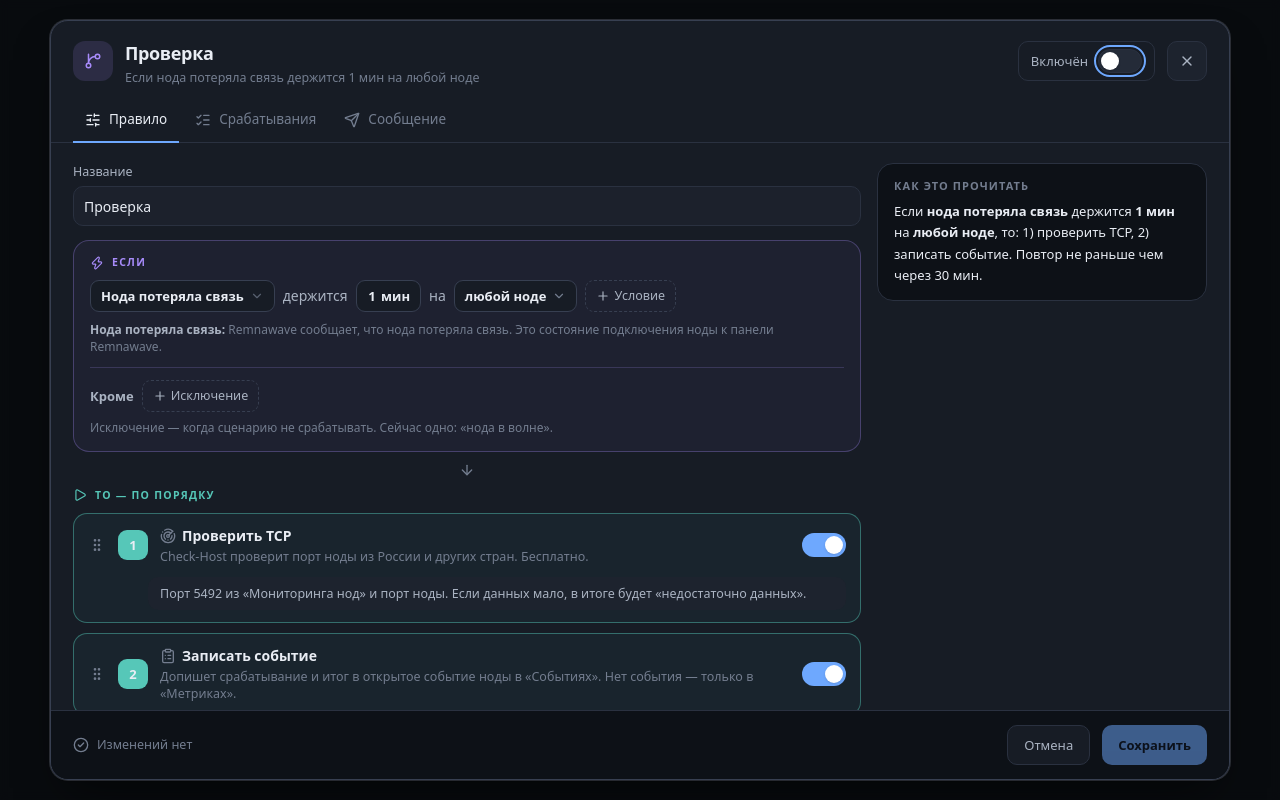
Test case: Редактор сценария «Если → то» › исключение «нода в волне»: добавляется и убирается, объяснено, видно в пересказе и в изменениях
Expected: the text "Исключение — когда сценарию не срабатывать. Сейчас одно: «нода в волне»." is shown, [90,419,553,436]
Click the button "Исключение". click: (200, 396)
box: [142,380,259,412]
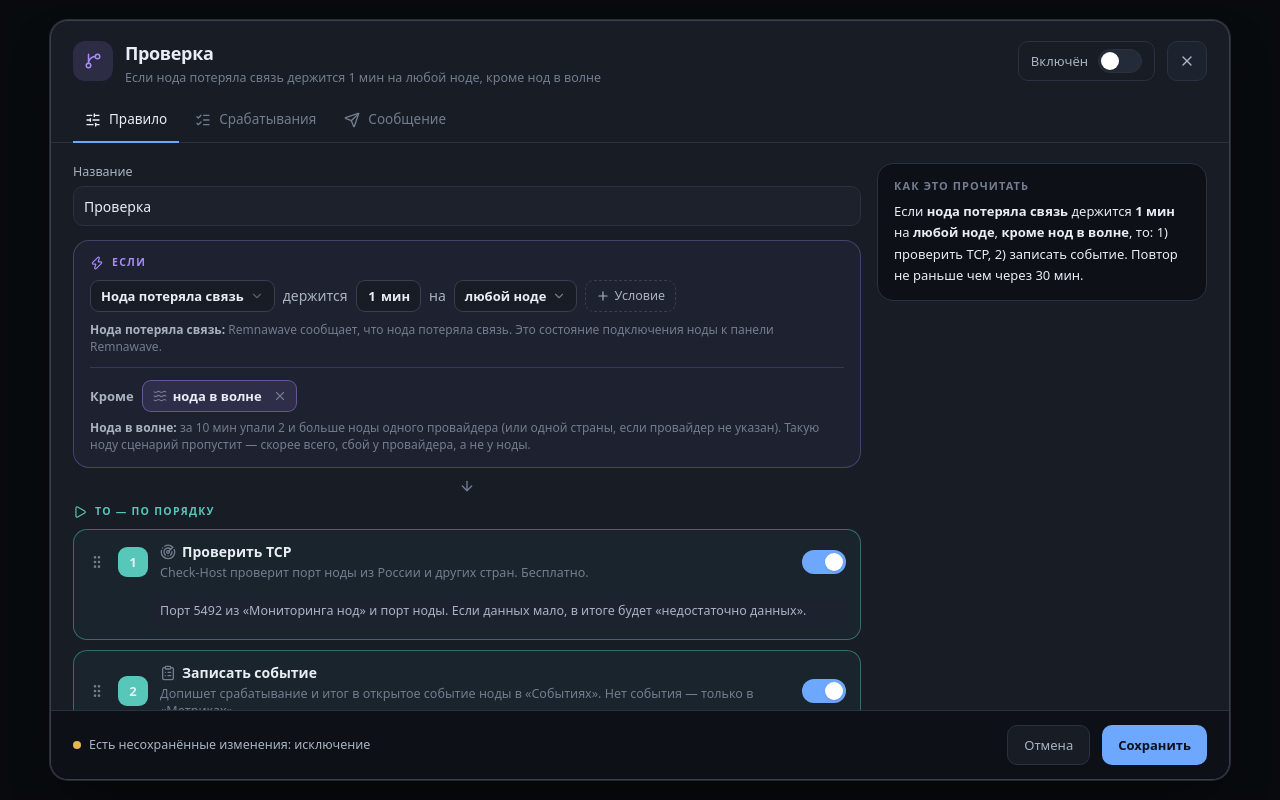
Expected: the text "Такую ноду сценарий пропустит — скорее всего, сбой у провайдера" is shown, [90,419,819,453]
Expected: the text "Повтор не раньше чем через" shows "кроме нод в волне", [1002,223,1129,241]
Expected: the text "Есть несохранённые изменения: исключение" is shown, [89,736,370,754]
Click the button "Сохранить". click: (1155, 745)
box: [1102,725,1207,765]
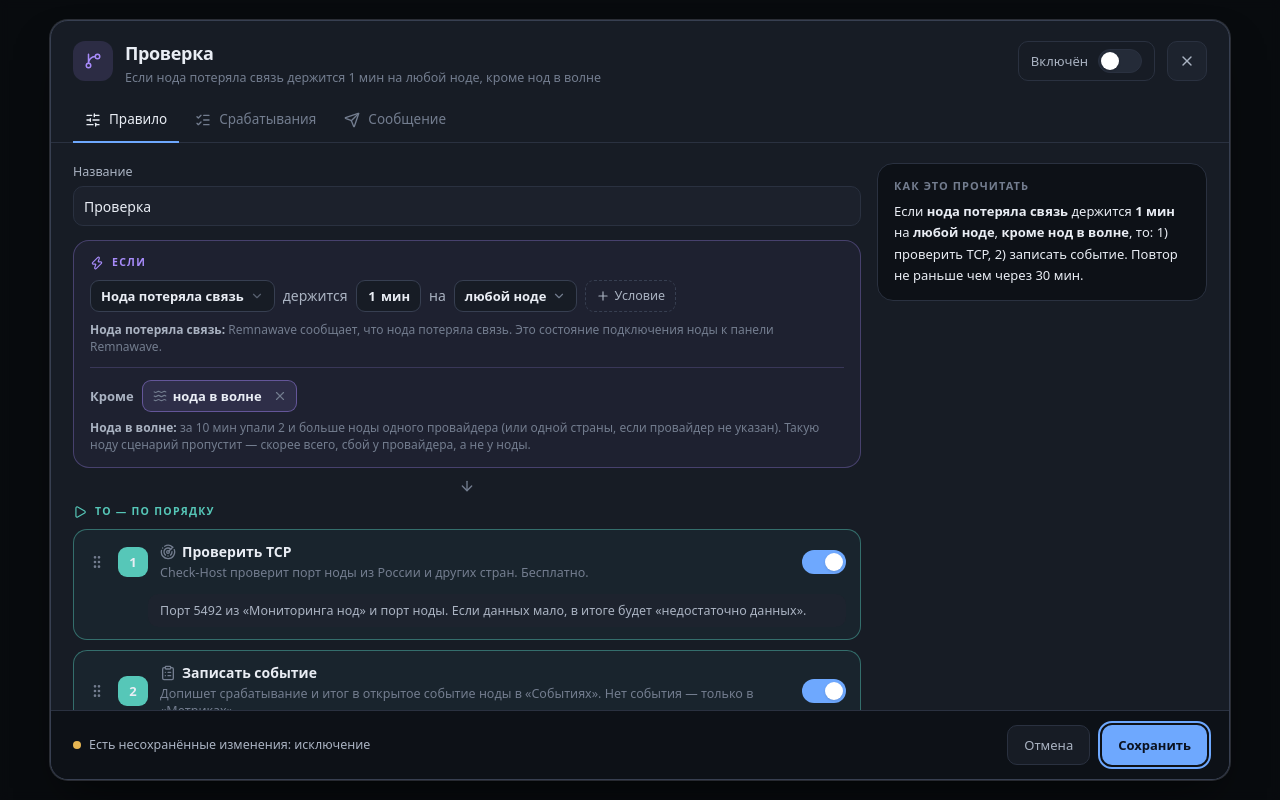
Click the button named "Убрать исключение «нода в волне»". click: (280, 396)
box: [268,384,292,408]
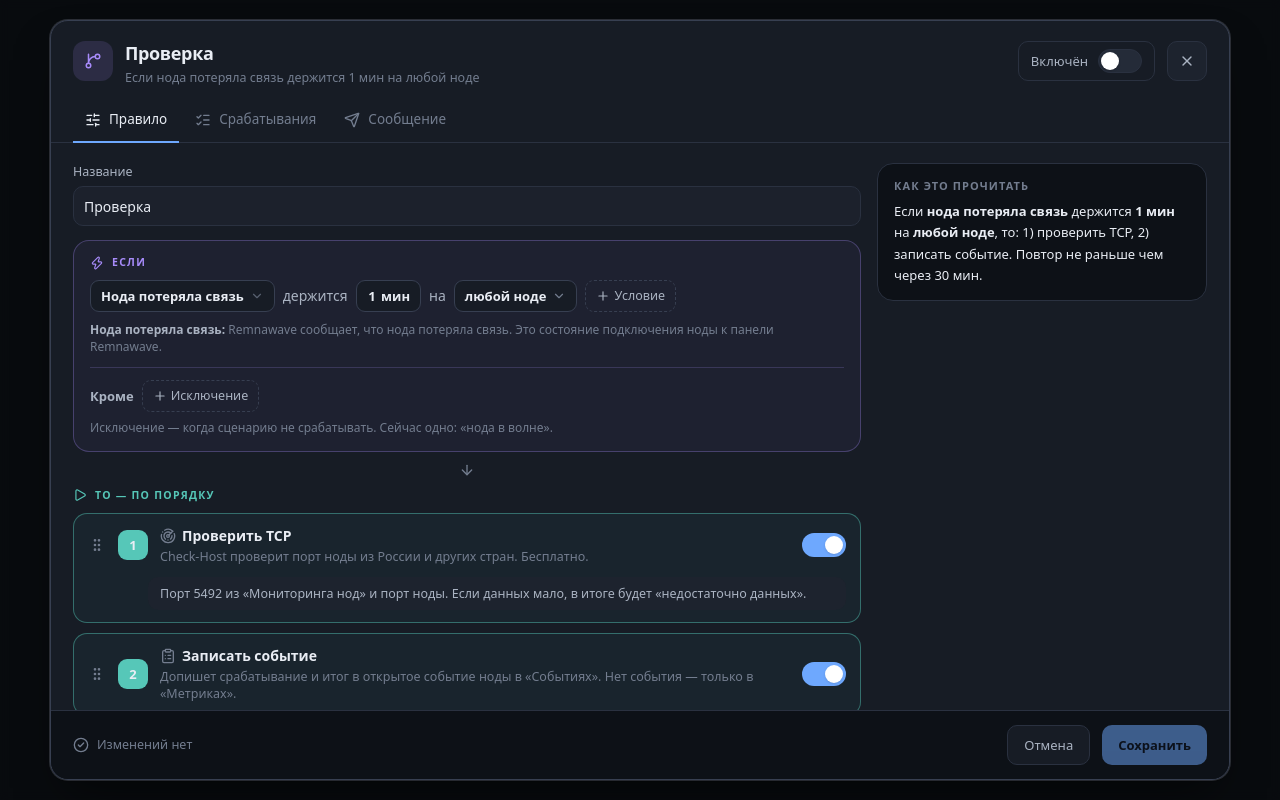
Expected: the text "Повтор не раньше чем через" no longer shows "кроме нод в волне", [894,201,1190,286]
Expected: the button "Исключение" is shown, [142,380,259,412]
